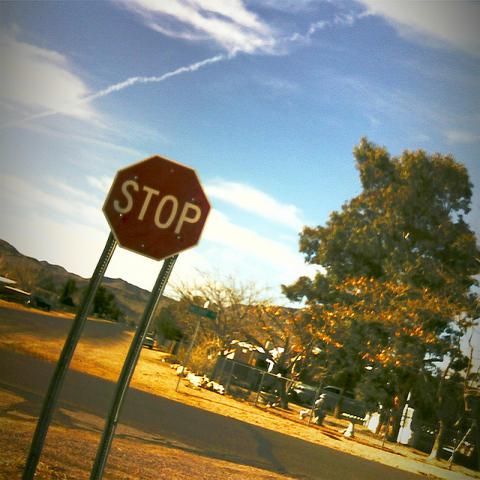car: (295, 386, 365, 420), (36, 297, 51, 311), (144, 332, 154, 348)
